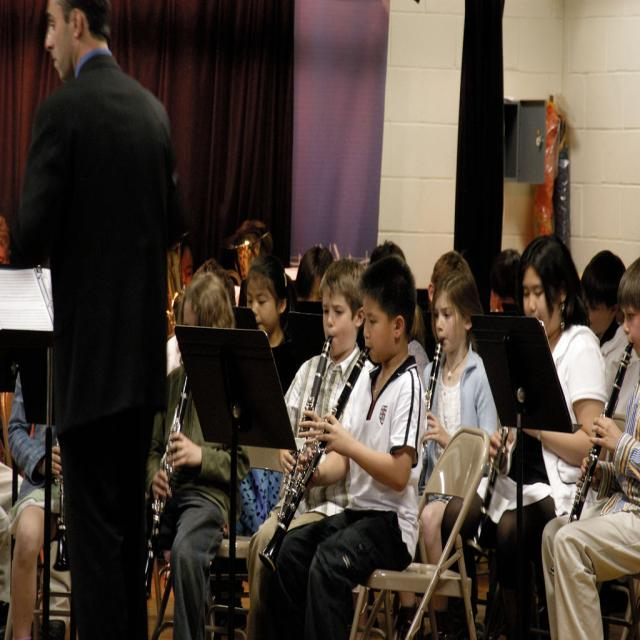clarinet: (260, 350, 368, 574), (570, 341, 632, 522), (271, 336, 332, 517), (143, 370, 188, 595), (469, 424, 509, 554), (51, 456, 70, 576), (425, 338, 443, 422)
